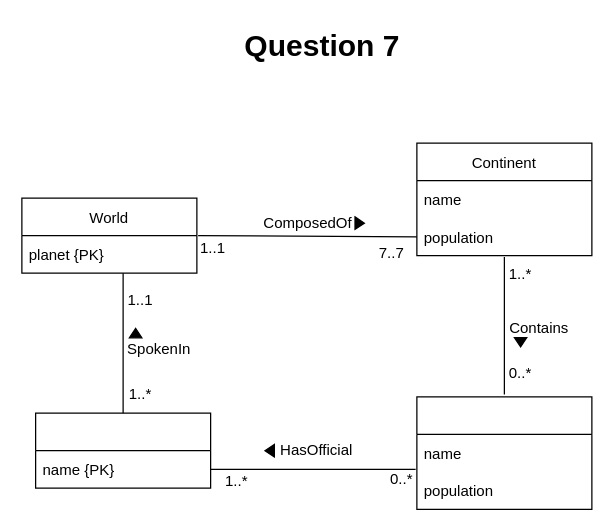
This 614x531 diagram has some shape labels left out. Here are the shapes that lost their labels. From the top down, the box of each, then its label:
(34, 412, 211, 488): Language
(416, 396, 592, 509): Country
